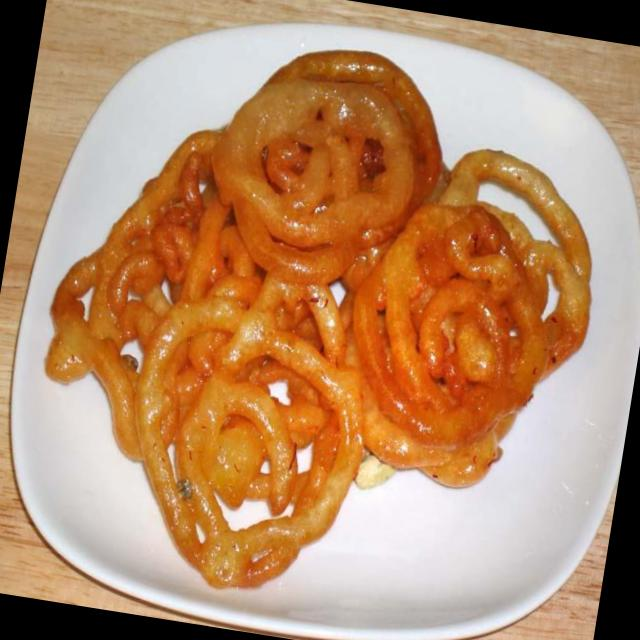jalebi: (0, 23, 617, 640)
